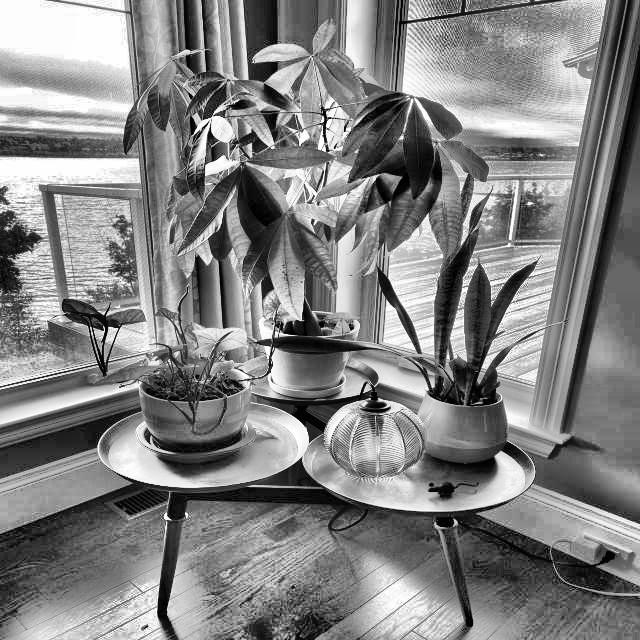plants: (120, 17, 486, 330)
